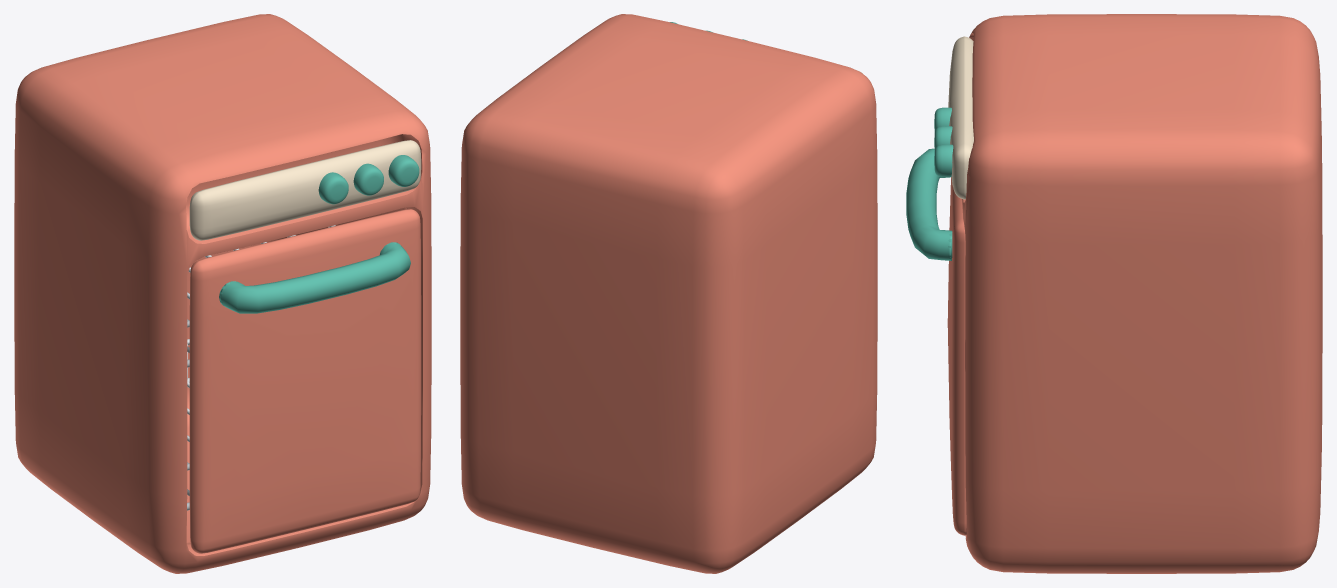
The model's file is dishwasher_c.glb.
3 views of the same model, side by side, from view 1: azimuth 30°, elevation 25°; view 2: azimuth 150°, elevation 25°; view 3: azimuth 270°, elevation 25° (orthographic). The views are drawn at different scales.
Visible parts, largest first — view 1: body, door; view 2: body; view 3: body, door.
Boxes of the visible parts, x1=… form: body: x1=14, y1=14, x2=431, y2=573; door: x1=189, y1=209, x2=421, y2=553; body: x1=460, y1=14, x2=877, y2=573; body: x1=934, y1=14, x2=1322, y2=573; door: x1=906, y1=148, x2=966, y2=535.
Bounding box in the file's own units: 0.6 × 0.84 × 0.713.
